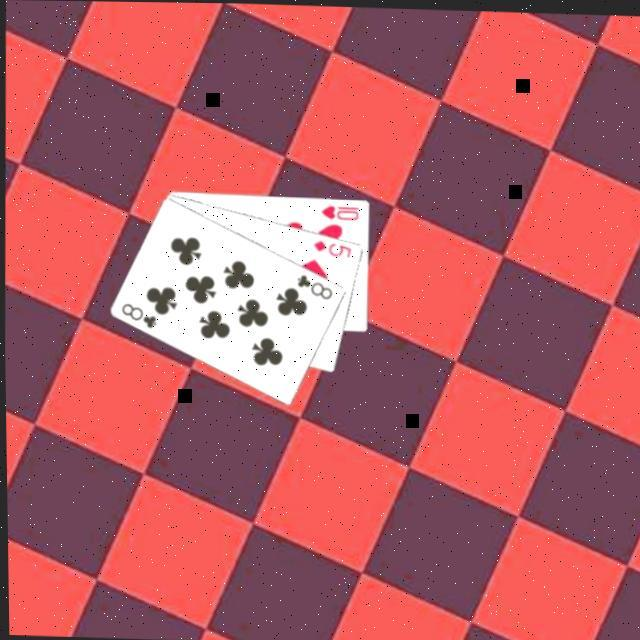10H: (316, 201, 360, 223)
5D: (308, 236, 352, 260)
8C: (291, 270, 334, 302), (116, 300, 158, 331)
